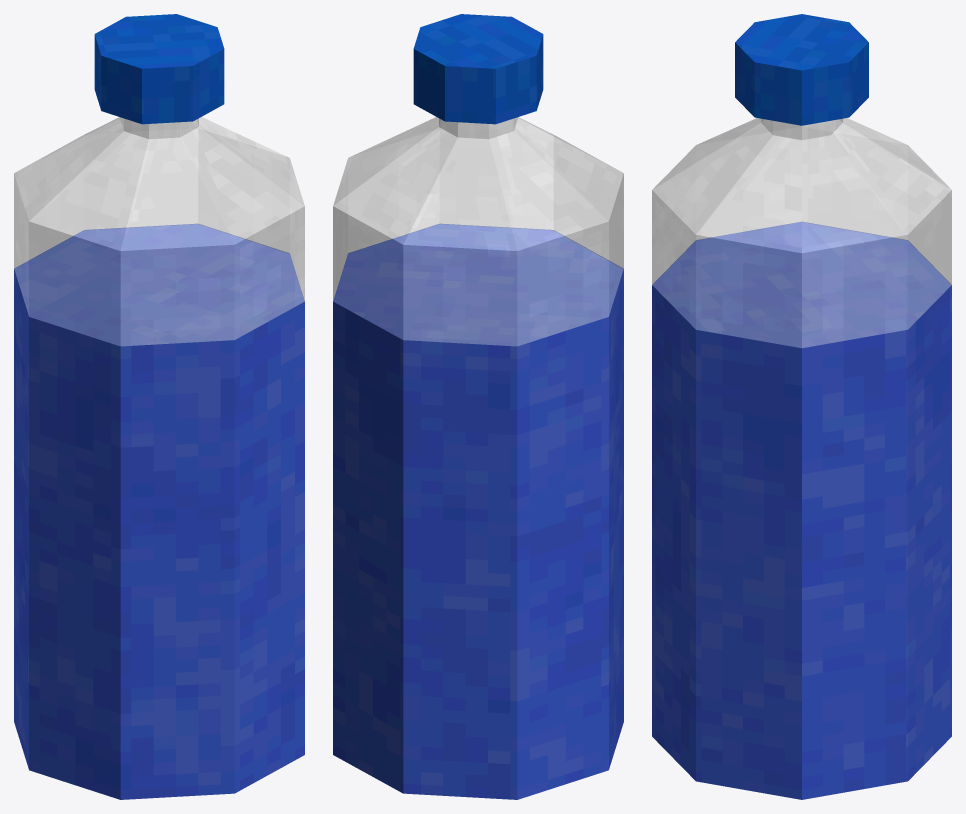
Rendered from bottle1.glb.
3 views of the same model, side by side, from view 1: azimuth 30°, elevation 25°; view 2: azimuth 150°, elevation 25°; view 3: azimuth 270°, elevation 25° (orthographic).
Parts seen in each view (by area): view 1: bottle1; view 2: bottle1; view 3: bottle1.
Part boxes in pixels (x1,y1,x2,y2): bottle1: (14,14,304,799); bottle1: (333,14,623,799); bottle1: (652,14,951,799).
Bounding box in the file's own units: 0.1337 × 0.3417 × 0.1337.
Materials: 1 (1 with a texture image).
